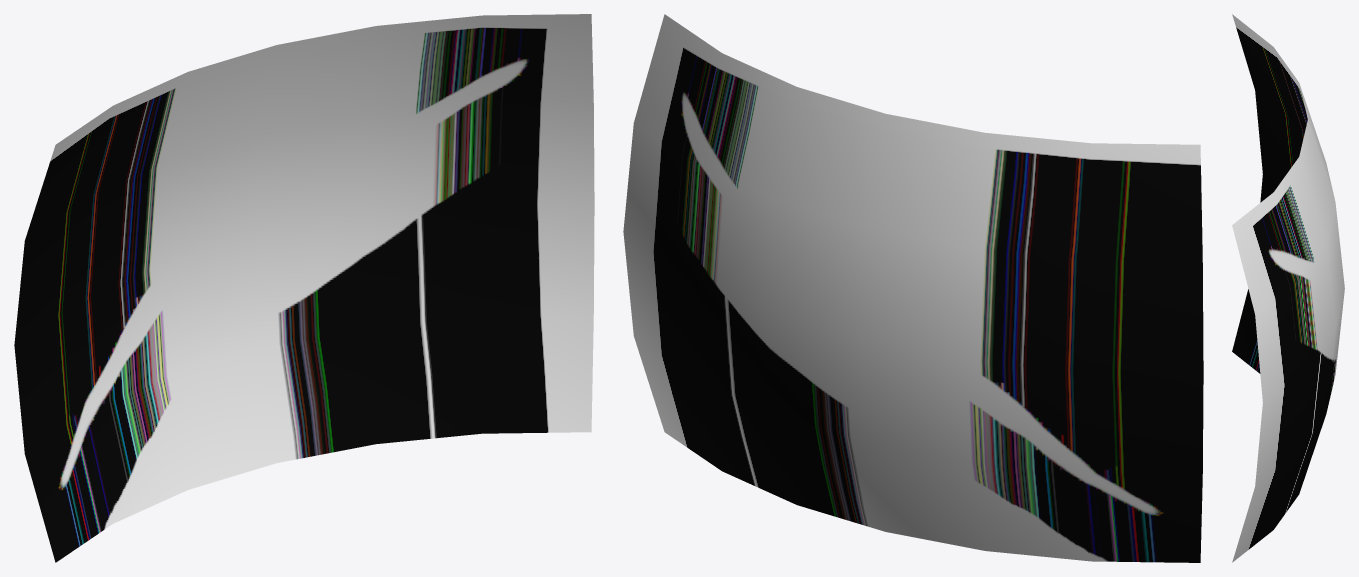
File: Wisp_B.fbx
3 views of the same model, side by side, from view 1: azimuth 30°, elevation 25°; view 2: azimuth 150°, elevation 25°; view 3: azimuth 270°, elevation 25° (orthographic). The views are drawn at different scales.
Visible parts, largest first — view 1: Wisp_B; view 2: Wisp_B; view 3: Wisp_B.
Part boxes in pixels (x1,y1,x2,y2): Wisp_B: (14, 14, 594, 562); Wisp_B: (623, 14, 1203, 562); Wisp_B: (1232, 14, 1344, 562).
Size of the model in its own units: 120 by 82.52 by 25.
